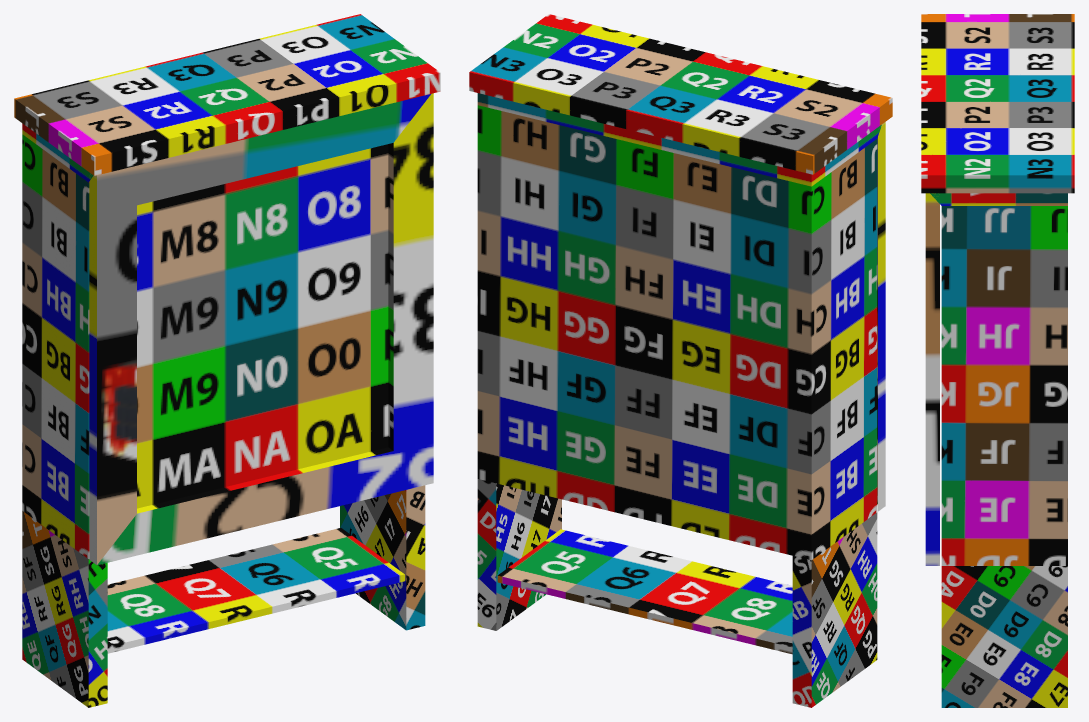
Rendered from cabinet1.FBX.
3 renders of one model, left to right at view 1: azimuth 30°, elevation 25°; view 2: azimuth 150°, elevation 25°; view 3: azimuth 270°, elevation 25°, orthographic. The views are drawn at different scales.
Visible parts, largest first — view 1: cabinet1; view 2: cabinet1; view 3: cabinet1.
Part boxes in pixels (<box>): cabinet1: <box>14,14,440,707</box>; cabinet1: <box>469,14,892,707</box>; cabinet1: <box>921,14,1074,707</box>.
Bounding box in the file's own units: 0.8839 × 1.36 × 0.3544.
1 material, 1 textured.
